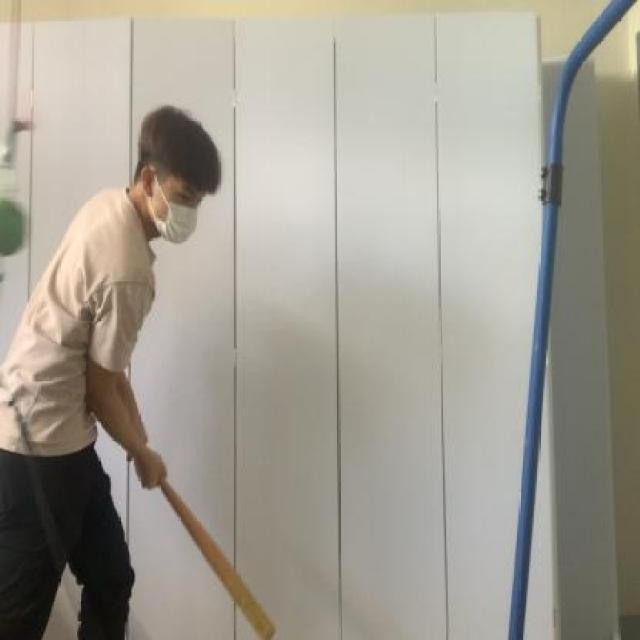baseball: (0, 190, 32, 264)
